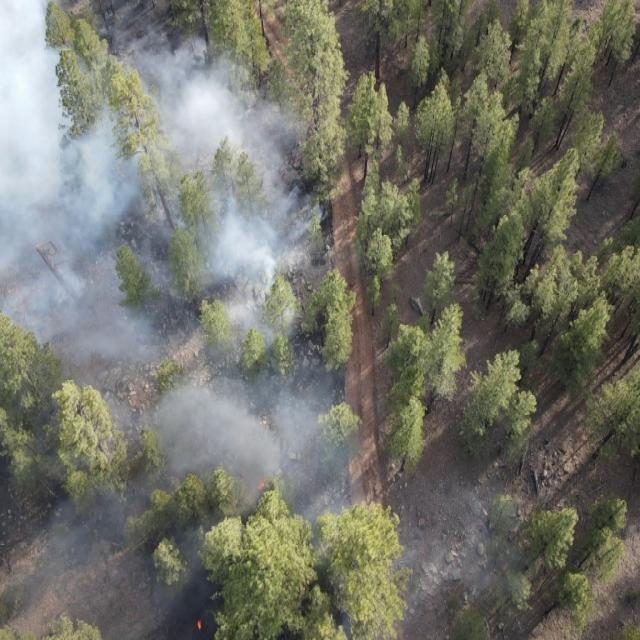fire: (254, 478, 266, 494), (196, 617, 204, 633)
smoke: (0, 0, 329, 334), (28, 335, 351, 507), (3, 512, 217, 640), (298, 506, 354, 620)
